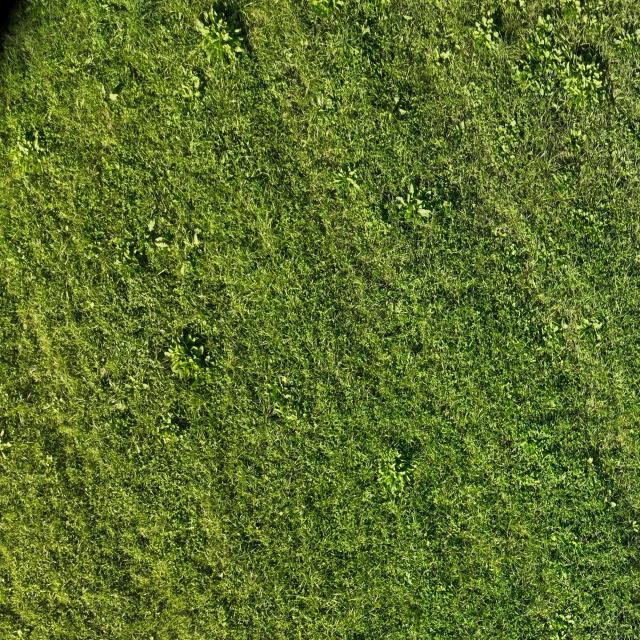rumex: (331, 192, 430, 353), (227, 190, 299, 294), (524, 285, 578, 370), (555, 49, 604, 115), (86, 139, 128, 200), (375, 444, 416, 495), (262, 372, 297, 418), (494, 114, 527, 162), (15, 132, 46, 174), (153, 400, 184, 440), (576, 314, 605, 346), (116, 246, 144, 279), (573, 208, 604, 235), (336, 165, 362, 197), (181, 228, 204, 260), (176, 74, 198, 107), (38, 449, 61, 480), (617, 16, 640, 47), (98, 80, 124, 107), (546, 613, 574, 638), (166, 342, 190, 371), (66, 50, 88, 79), (474, 26, 498, 50), (512, 64, 532, 88), (311, 2, 335, 20), (335, 361, 351, 388), (194, 17, 211, 41), (560, 2, 579, 23), (208, 39, 226, 61), (521, 439, 540, 459), (124, 63, 143, 83), (228, 10, 241, 34), (221, 42, 235, 62), (522, 259, 536, 279), (138, 244, 151, 264), (487, 1, 502, 18), (538, 81, 552, 98), (569, 137, 582, 155), (111, 81, 126, 96), (266, 382, 280, 398), (438, 48, 452, 64), (394, 459, 410, 473), (530, 60, 542, 77), (153, 424, 167, 438), (25, 129, 36, 145), (510, 68, 521, 84), (33, 134, 42, 153), (452, 122, 464, 136), (154, 238, 168, 250), (536, 14, 548, 28), (417, 207, 432, 218), (590, 319, 602, 332), (17, 142, 28, 156), (220, 29, 231, 43), (404, 209, 414, 224), (316, 93, 326, 108), (550, 102, 562, 114), (205, 9, 215, 23), (114, 401, 126, 412), (408, 181, 416, 197), (348, 168, 359, 179), (397, 106, 408, 117), (395, 195, 406, 206), (179, 262, 187, 277), (546, 620, 556, 632), (176, 12, 185, 25), (481, 15, 490, 28), (163, 349, 176, 358), (147, 217, 155, 231), (492, 226, 502, 237), (50, 543, 60, 554), (557, 612, 568, 622), (542, 49, 552, 60), (360, 24, 369, 36), (220, 152, 228, 165), (406, 192, 414, 205), (193, 231, 199, 248), (614, 36, 624, 46), (500, 491, 509, 502), (158, 268, 169, 277), (78, 95, 85, 109), (99, 82, 106, 96), (392, 94, 400, 106), (509, 118, 517, 130), (204, 50, 211, 63), (172, 112, 181, 122), (84, 57, 93, 67), (402, 14, 412, 23), (234, 45, 243, 55), (517, 1, 526, 10), (510, 248, 518, 258), (62, 224, 70, 234), (191, 344, 199, 354), (196, 292, 206, 300), (165, 168, 172, 179), (186, 334, 193, 345), (198, 344, 205, 355), (582, 14, 589, 25), (3, 441, 12, 449), (46, 454, 54, 463), (460, 120, 466, 132), (297, 628, 303, 640), (18, 413, 24, 425), (281, 375, 288, 385), (141, 382, 149, 390), (88, 301, 95, 310), (204, 355, 211, 364), (609, 501, 617, 508), (635, 521, 640, 532), (0, 428, 5, 438), (588, 456, 594, 464), (299, 512, 304, 521)
